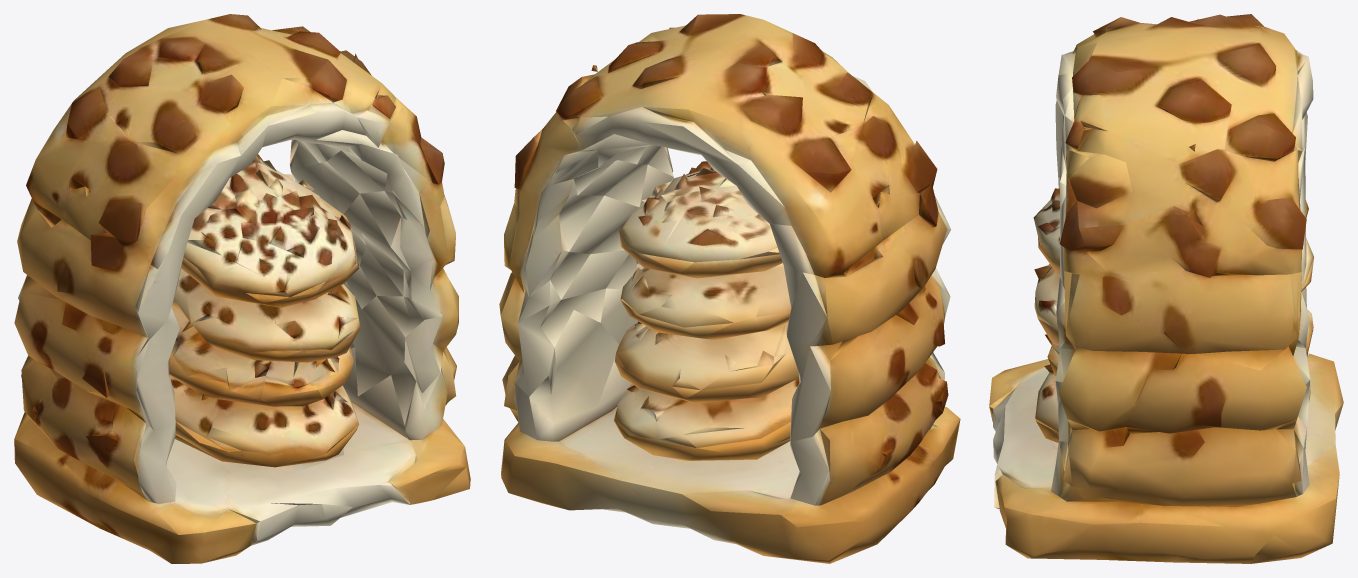
Rendered from m2CookieArch.glb.
The picture shows the model from 3 angles, left to right: view 1: azimuth 30°, elevation 25°; view 2: azimuth 150°, elevation 25°; view 3: azimuth 270°, elevation 25°; orthographic projection. The views are drawn at different scales.
Parts seen in each view (by area): view 1: model; view 2: model; view 3: model.
Part boxes in pixels (<box>): model: <box>14,14,470,563</box>; model: <box>499,14,960,563</box>; model: <box>989,14,1343,563</box>.
Bounding box in the file's own units: 1.73 × 1.9 × 1.37.
1 material, 1 textured.
